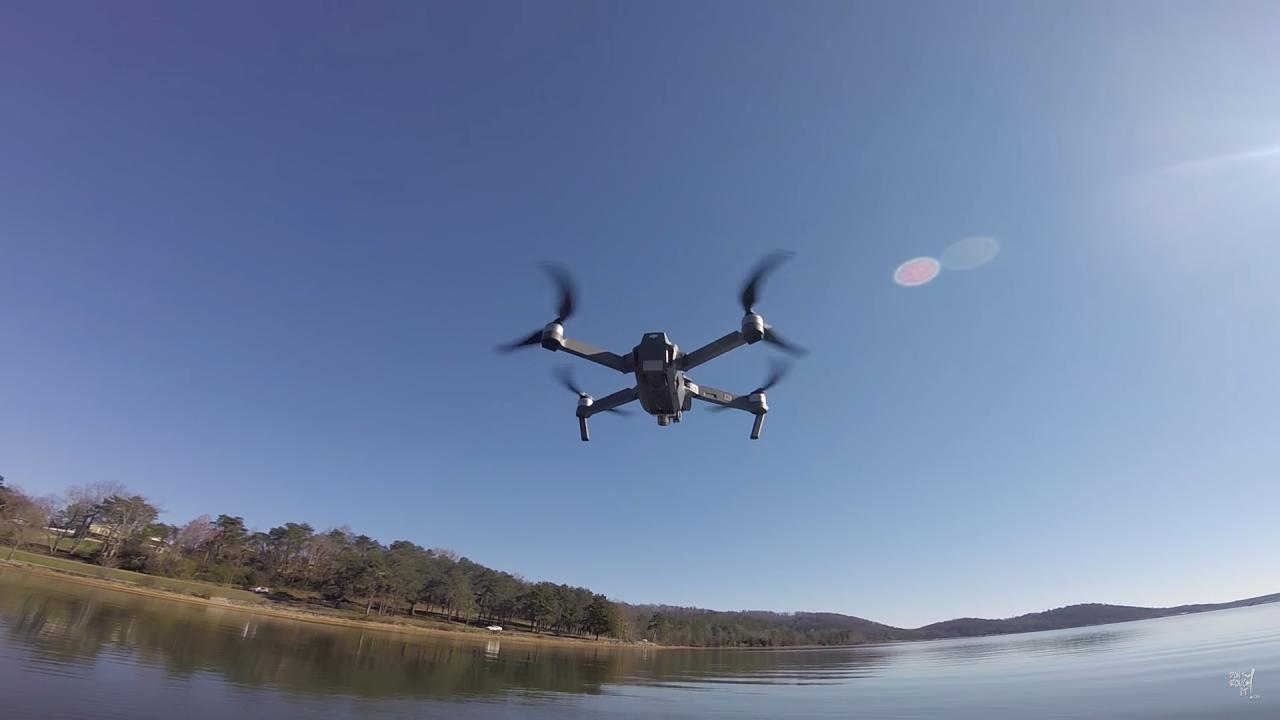Drone: (480, 233, 828, 464)
